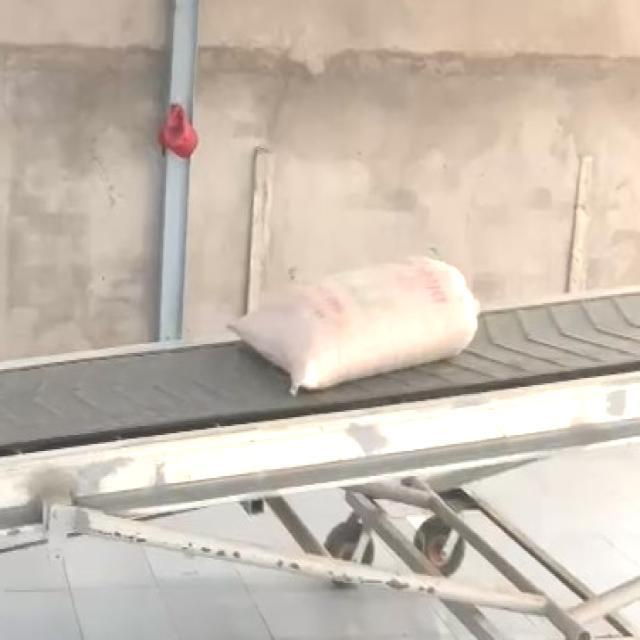gunny_bag: (228, 257, 477, 393)
